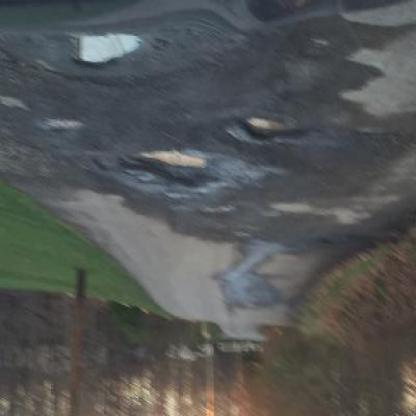pothole: (126, 151, 220, 191), (72, 32, 148, 73), (246, 3, 333, 25), (241, 115, 306, 144), (45, 122, 85, 137)
